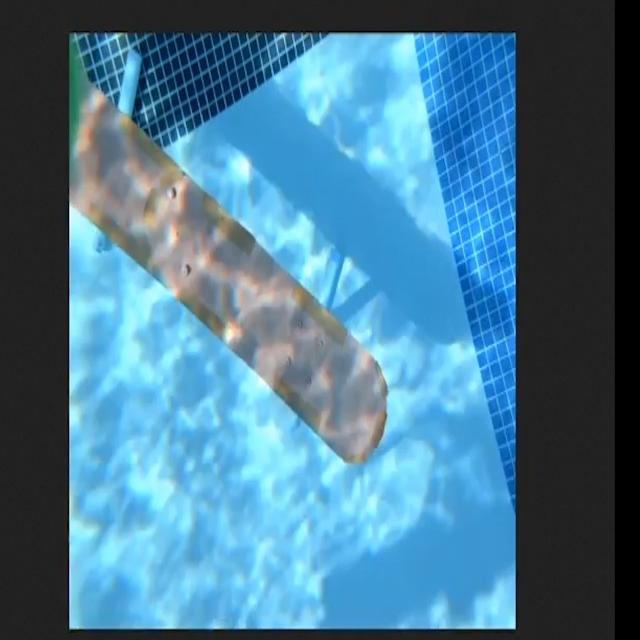Path: (76, 54, 390, 472)
